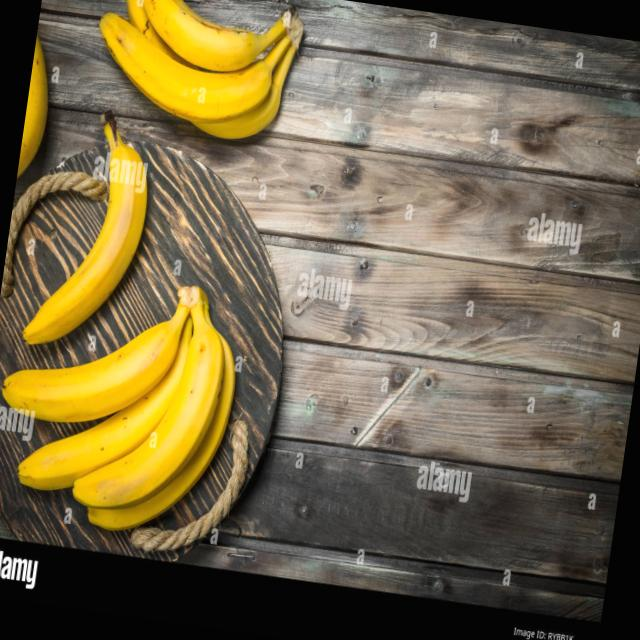banana: (0, 255, 253, 552), (15, 97, 164, 359), (81, 0, 315, 157), (15, 1, 66, 191)
